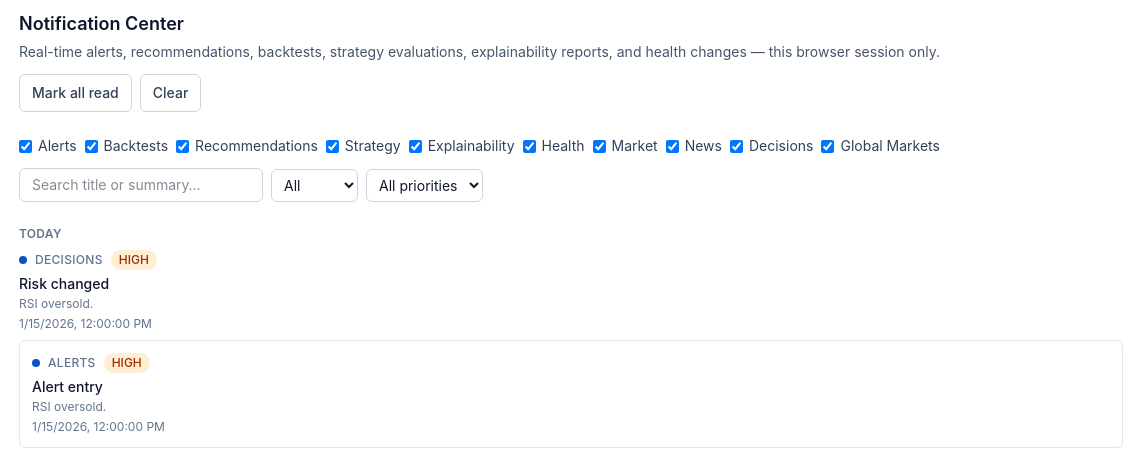
it: NotificationCenterPage › includes Market/News/Decisions in the domain filter and filters by them
Check: the checkbox labelled "Market" is shown, box [592,140,606,152]
Check: the checkbox labelled "News" is shown, box [666,140,679,152]
Click the checkbox labelled "Alerts": (26,146) [19,140,32,152]
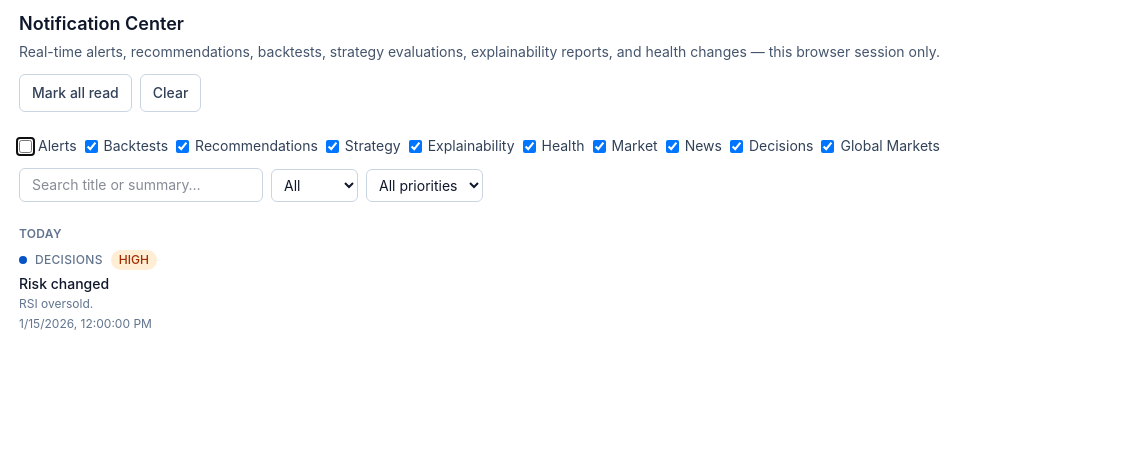
Check: the text "Risk changed" is shown, box [19,275,109,292]
Check: the button "Alert entry" is gone
